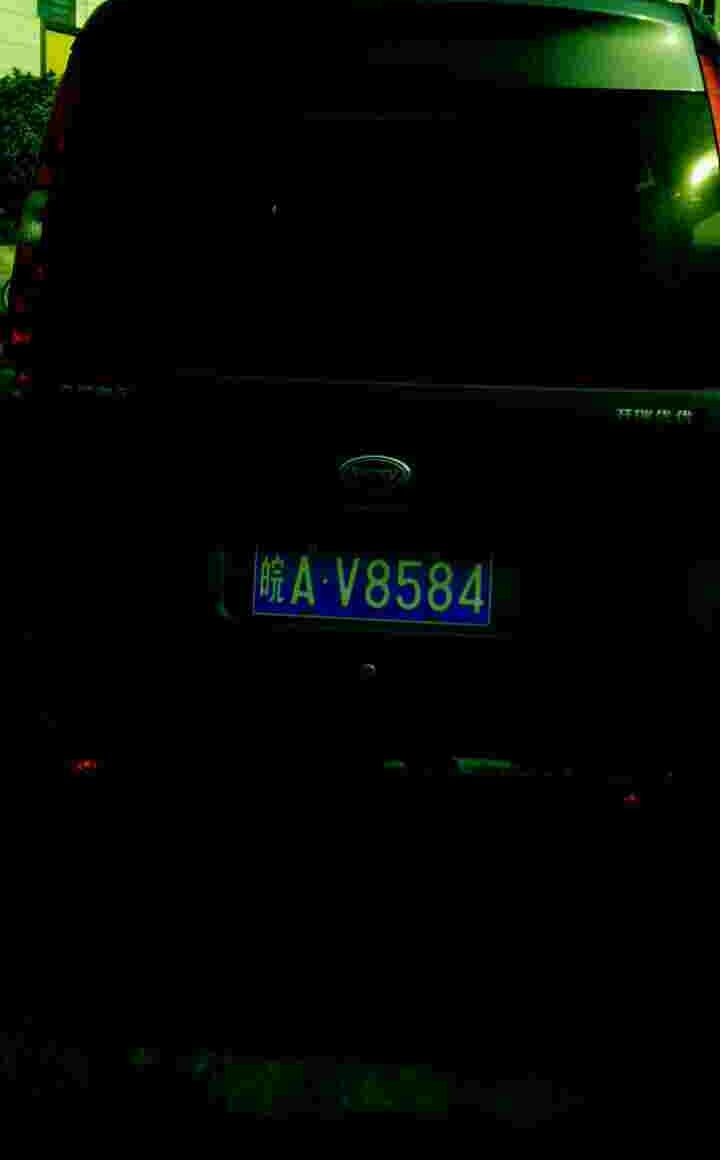license_plate: (260, 553, 493, 625)
